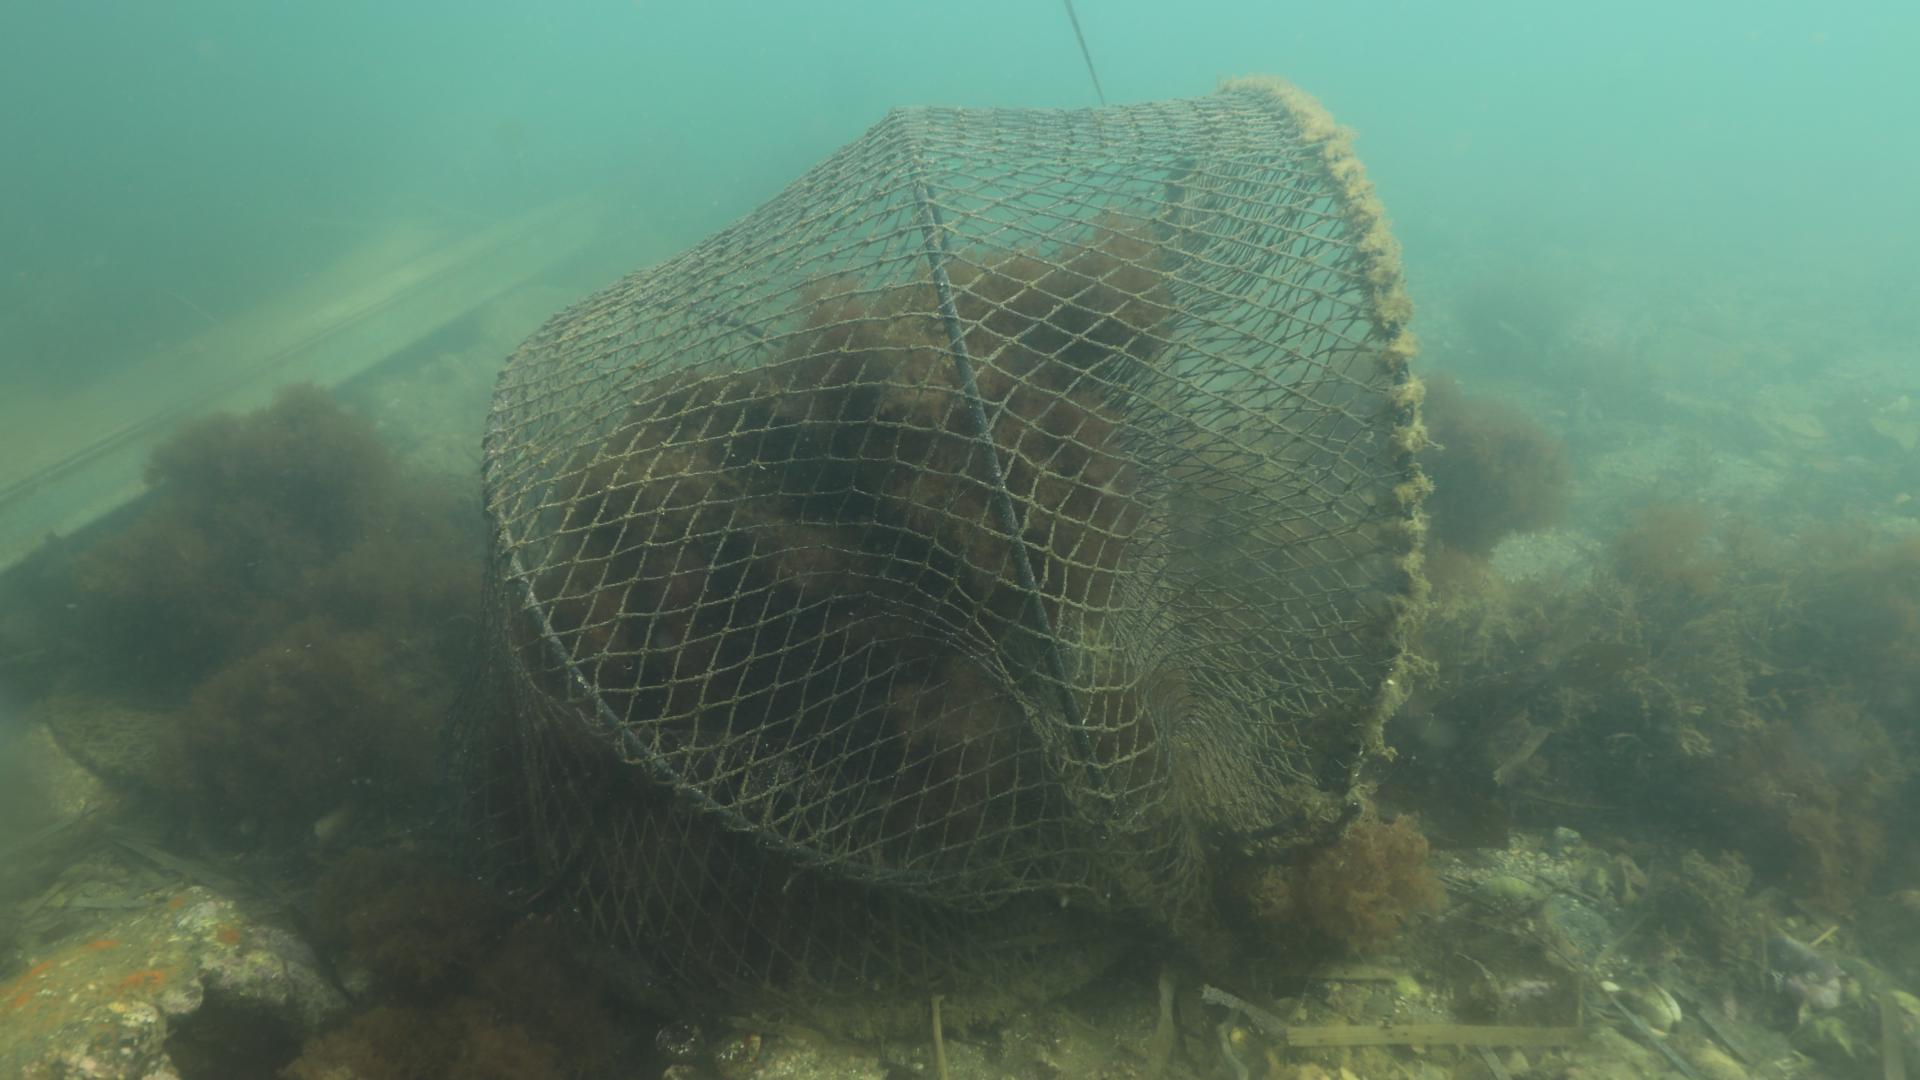spring fish trap: (473, 75, 1428, 1034)
